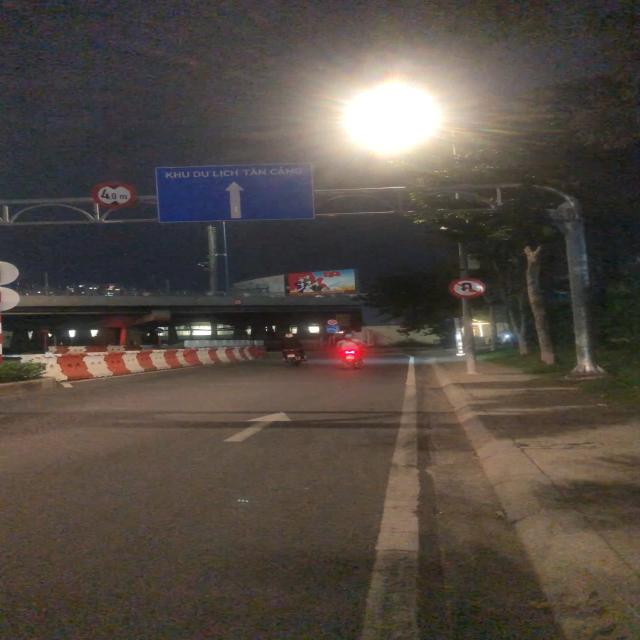Bien bao cam quay dau xe: (444, 275, 488, 299)
Bien bao han che chieu cao: (91, 181, 138, 209)
